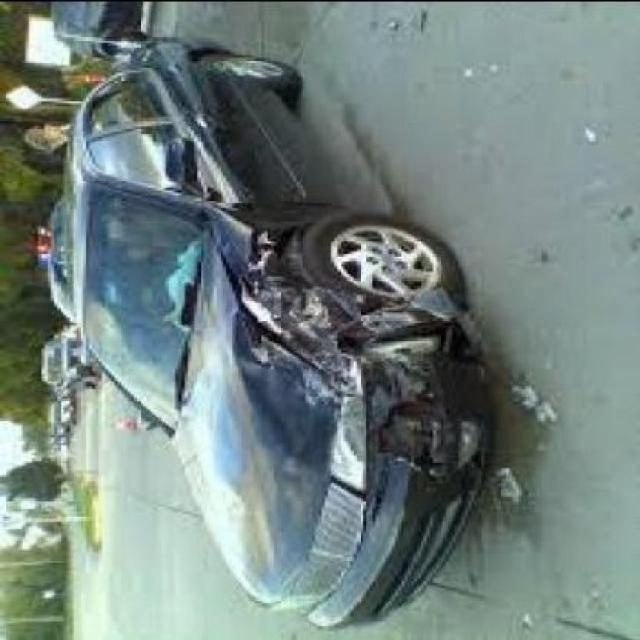damage: (214, 202, 488, 478)
